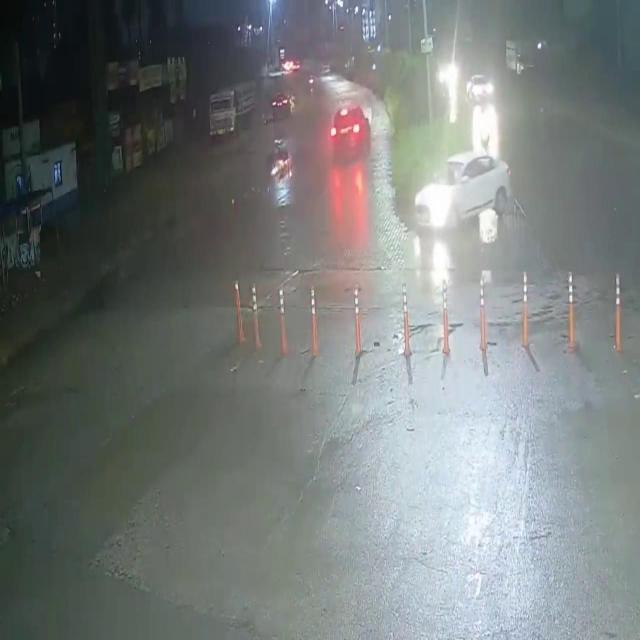accident: (257, 138, 299, 190)
